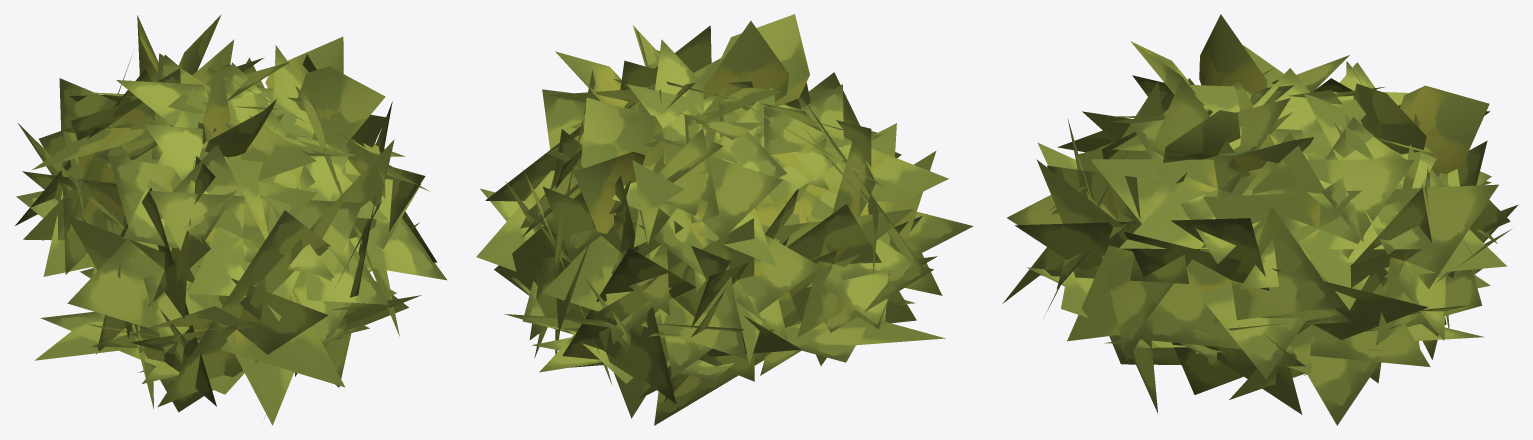
File: Raspberry_Bush_3a.fbx
3 renders of one model, left to right at view 1: azimuth 30°, elevation 25°; view 2: azimuth 150°, elevation 25°; view 3: azimuth 270°, elevation 25°, orthographic. The views are drawn at different scales.
Visible parts, largest first — view 1: Raspberry_Bush_3a; view 2: Raspberry_Bush_3a; view 3: Raspberry_Bush_3a.
Part boxes in pixels (x1,y1,x2,y2): Raspberry_Bush_3a: [15, 14, 446, 425]; Raspberry_Bush_3a: [476, 14, 973, 425]; Raspberry_Bush_3a: [1002, 14, 1518, 425].
Size of the model in its own units: 136 by 111 by 145.
Materials: 1 (1 with a texture image).
